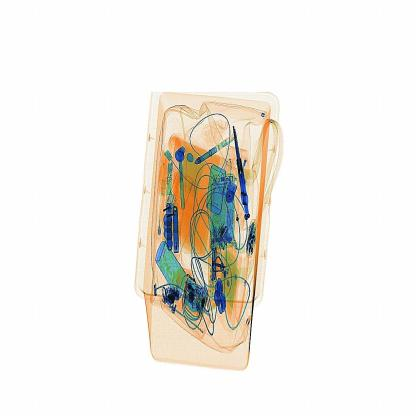gun: (228, 118, 256, 233)
